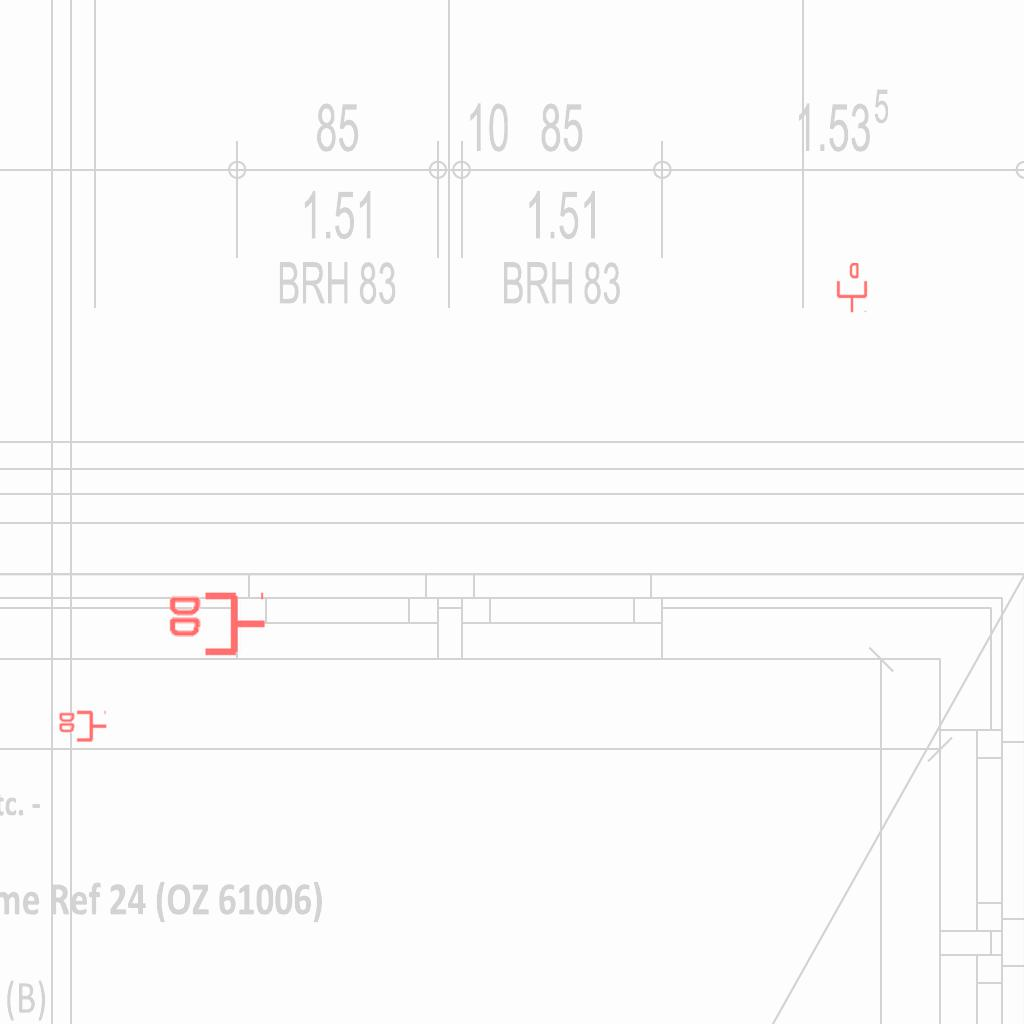Datenanschluss_einfach: (835, 263, 869, 313)
Datenanschluss_zweifach: (165, 591, 268, 660), (57, 710, 108, 744)
